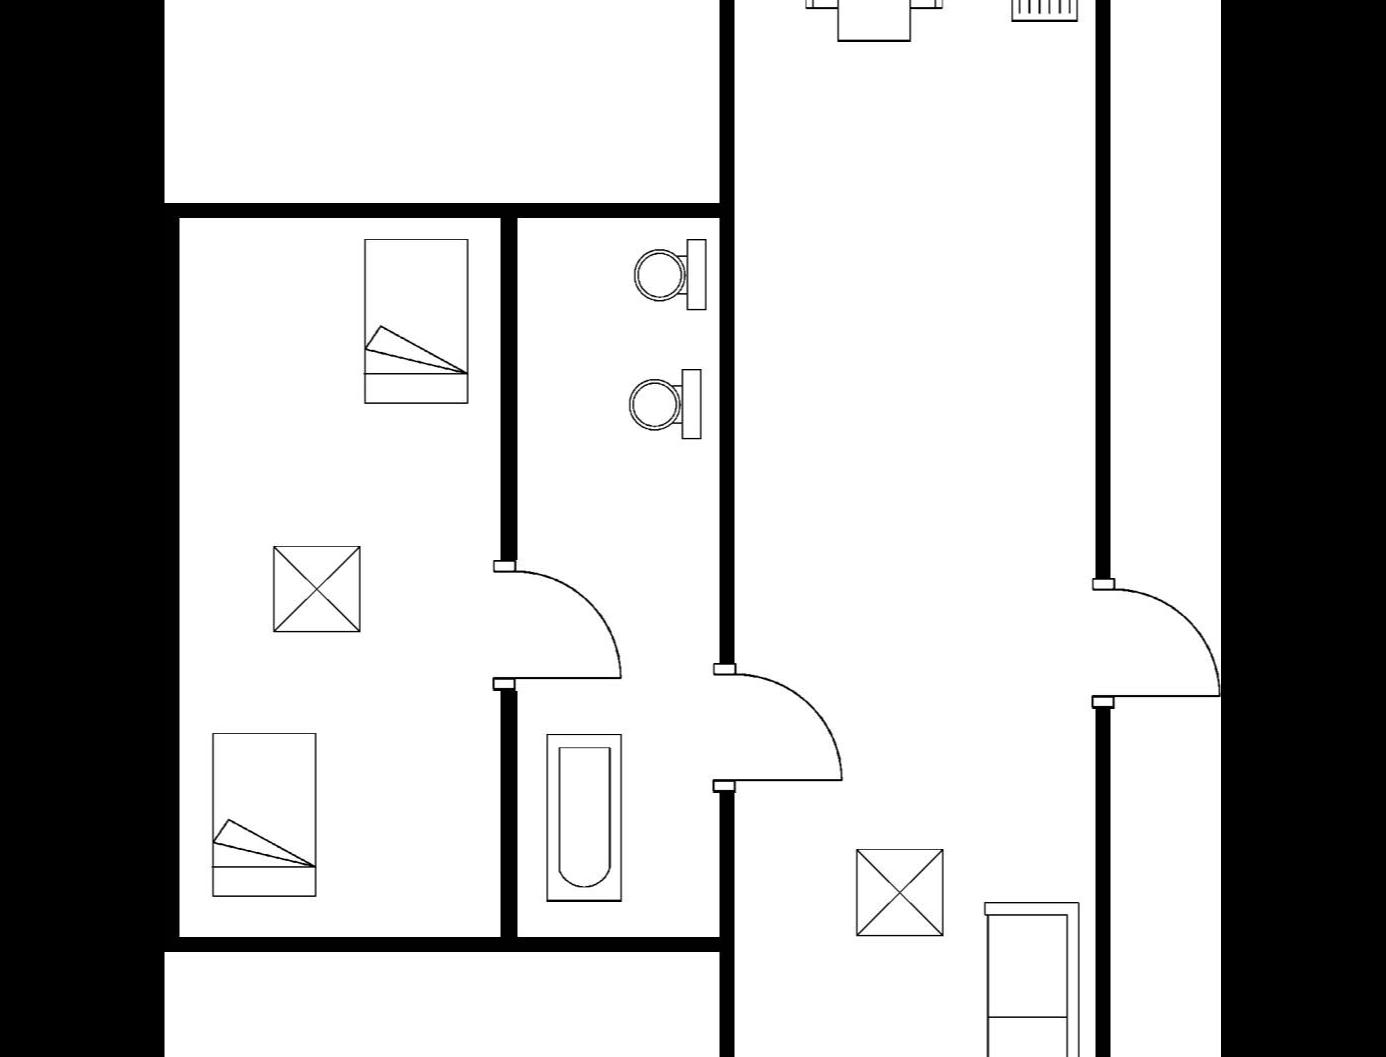bed: (202, 725, 323, 904), (354, 232, 473, 414)
dining_table: (796, 0, 950, 52)
sink: (1000, 0, 1089, 32)
sofa: (974, 893, 1085, 1057)
toilet: (622, 232, 712, 320), (616, 361, 707, 443)
tub: (539, 724, 629, 906)
